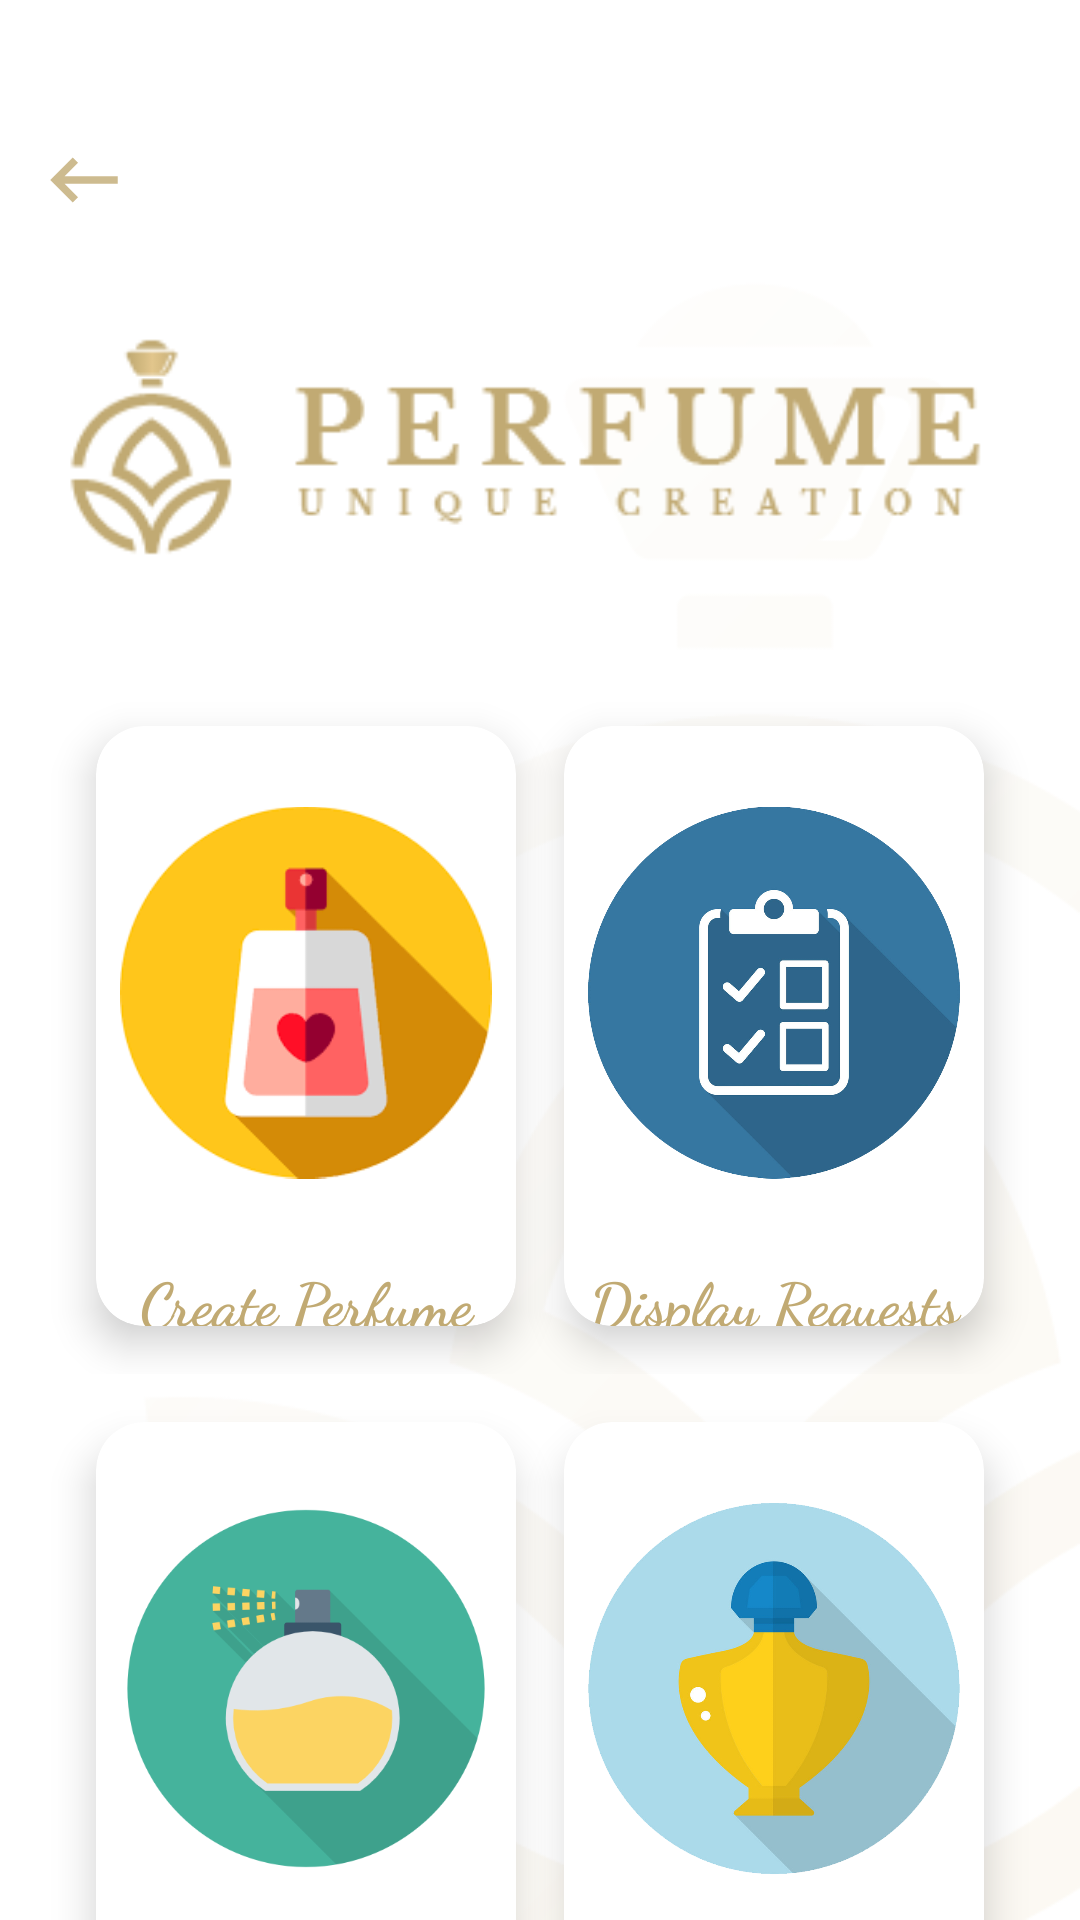

Where icons sit on this 1080px×1920px app screen, as (x1, y1, x2, y2):
back: (50, 157, 118, 202)
fragrance: (127, 1510, 485, 1867)
